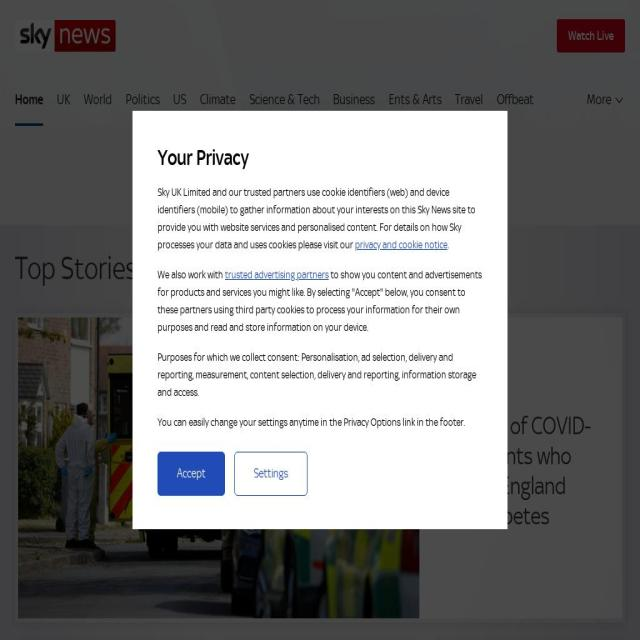button: (440, 411, 600, 532), (15, 20, 144, 52), (235, 452, 308, 496), (157, 452, 225, 496), (580, 72, 632, 126), (556, 18, 625, 54), (8, 72, 50, 126), (441, 388, 453, 408)
heading: (440, 411, 600, 532), (15, 248, 137, 288)
image: (0, 0, 640, 640), (18, 317, 420, 619), (0, 126, 640, 225), (15, 20, 116, 52), (614, 91, 626, 108)
link: (248, 72, 320, 126), (388, 72, 442, 126), (333, 72, 375, 126), (496, 72, 534, 126), (124, 72, 160, 126), (200, 72, 236, 126), (454, 72, 484, 126), (83, 72, 112, 126), (225, 268, 329, 281), (355, 238, 447, 251), (56, 72, 70, 126), (172, 72, 186, 126)
text: (157, 268, 482, 334), (157, 186, 476, 251), (158, 348, 482, 401), (158, 144, 482, 171), (158, 413, 482, 431), (157, 268, 225, 281), (587, 90, 612, 108)
